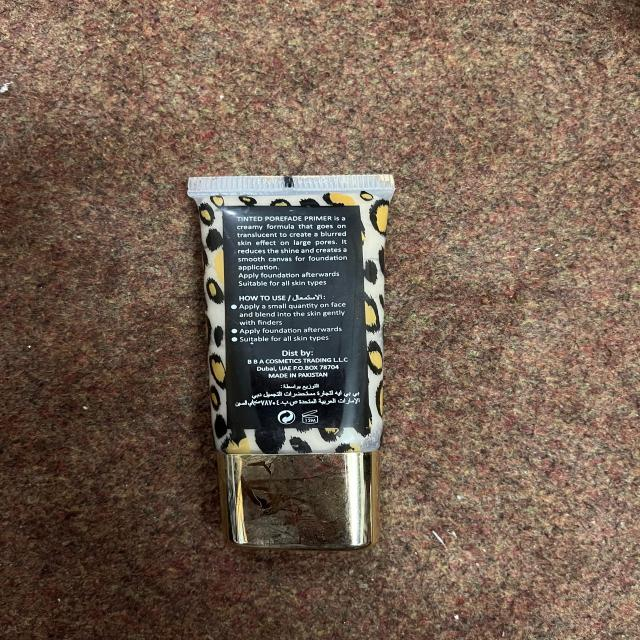bb cream: (153, 148, 417, 582)
